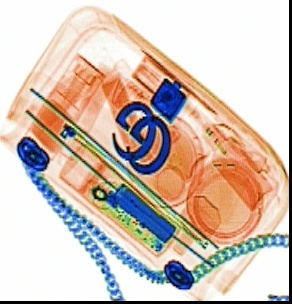powerbank: (90, 179, 180, 256)
